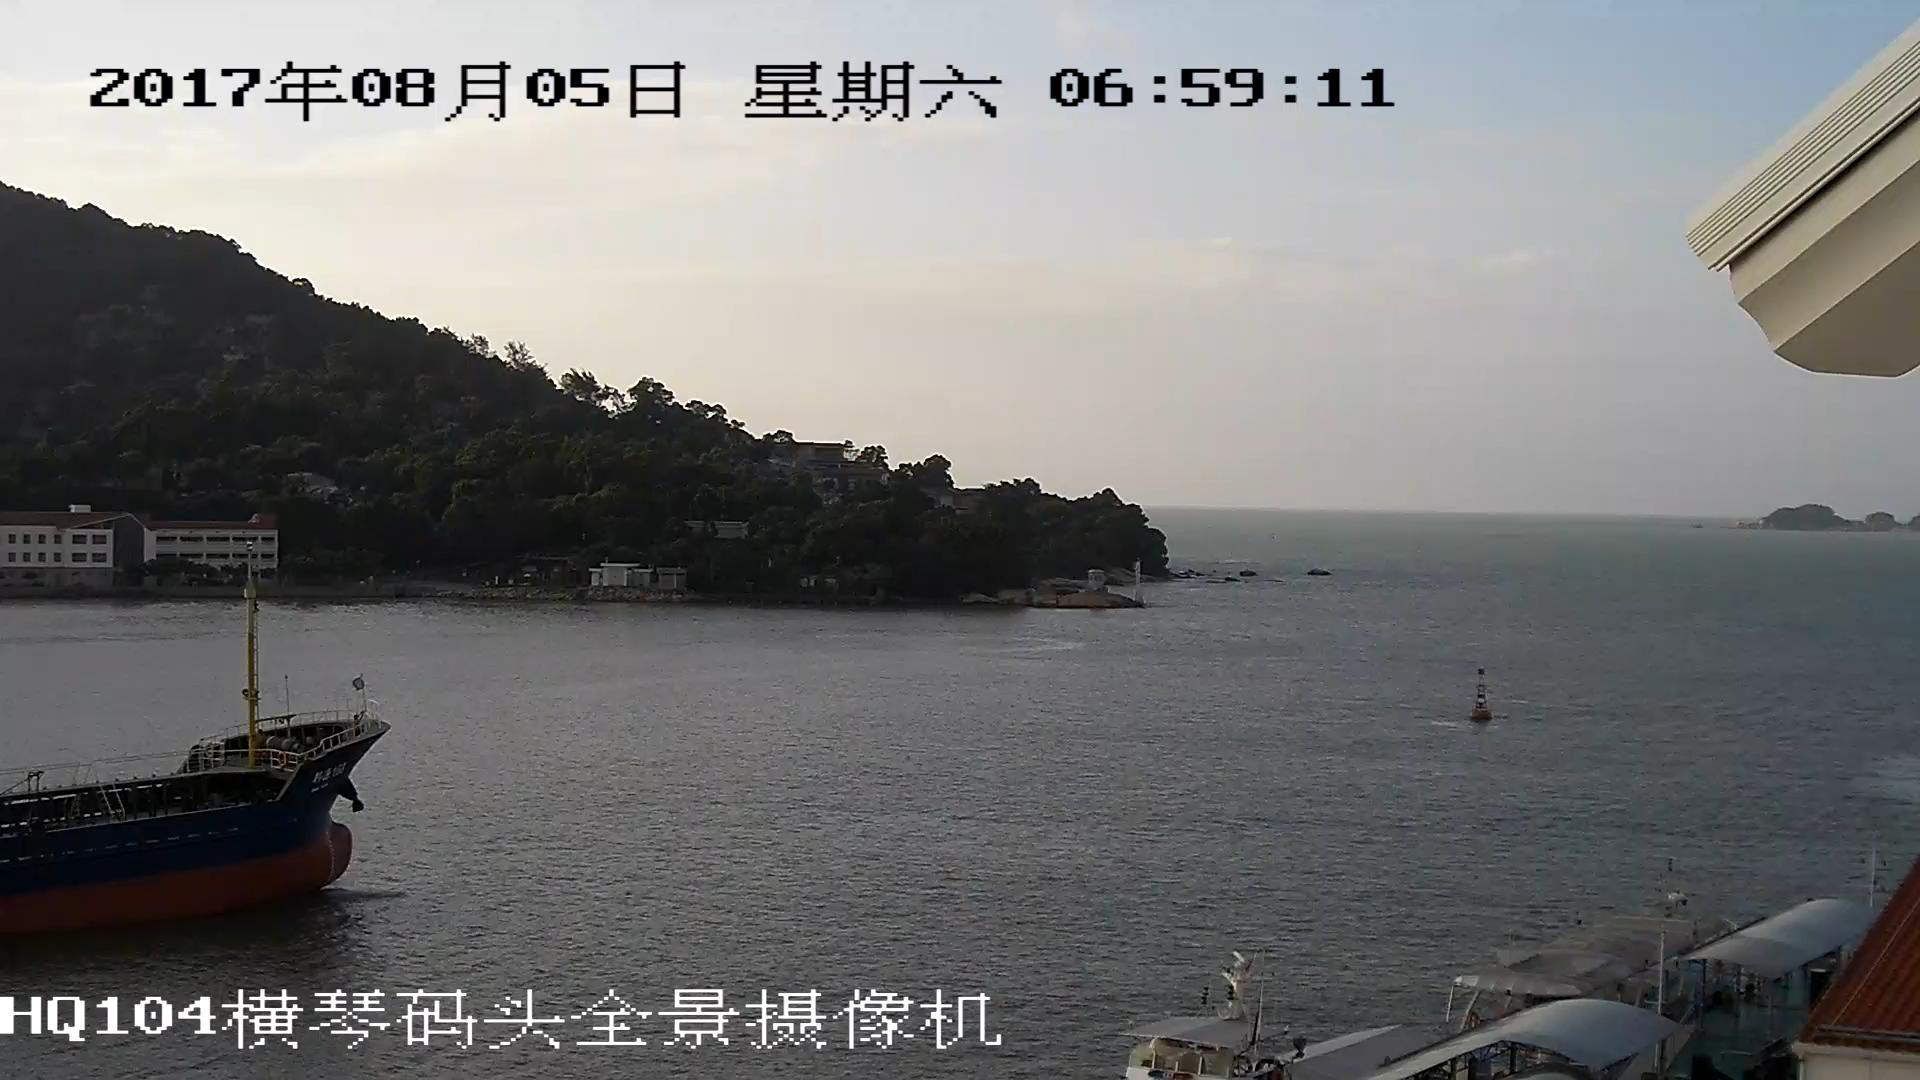general cargo ship: (1, 567, 384, 949)
